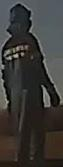gloves: (46, 84, 61, 107), (6, 100, 13, 116)
vest: (5, 35, 43, 105)
